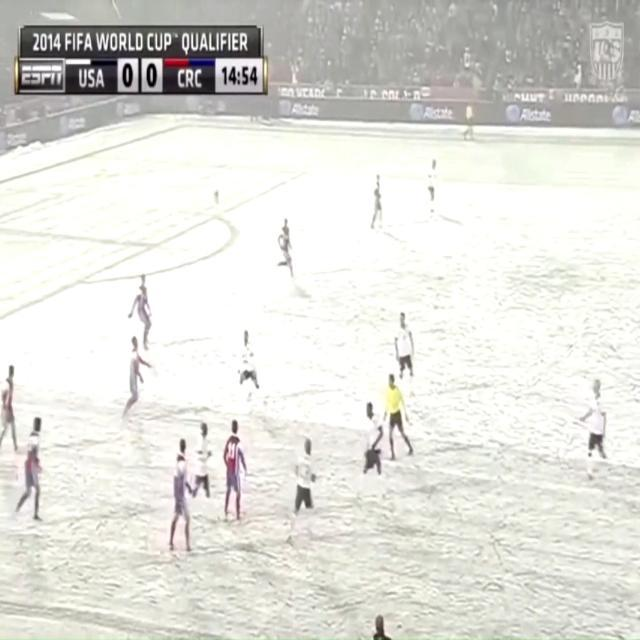ball: (211, 186, 225, 211)
player: (167, 427, 196, 559), (235, 323, 275, 415), (292, 433, 322, 549), (21, 415, 48, 537), (579, 367, 610, 466), (123, 336, 152, 426), (132, 264, 160, 357), (360, 398, 390, 484), (224, 417, 246, 525), (2, 362, 24, 464), (195, 409, 215, 519), (394, 307, 420, 387), (275, 219, 299, 292), (372, 164, 388, 242), (425, 156, 441, 221)
referee: (385, 372, 415, 472), (464, 104, 478, 159)
